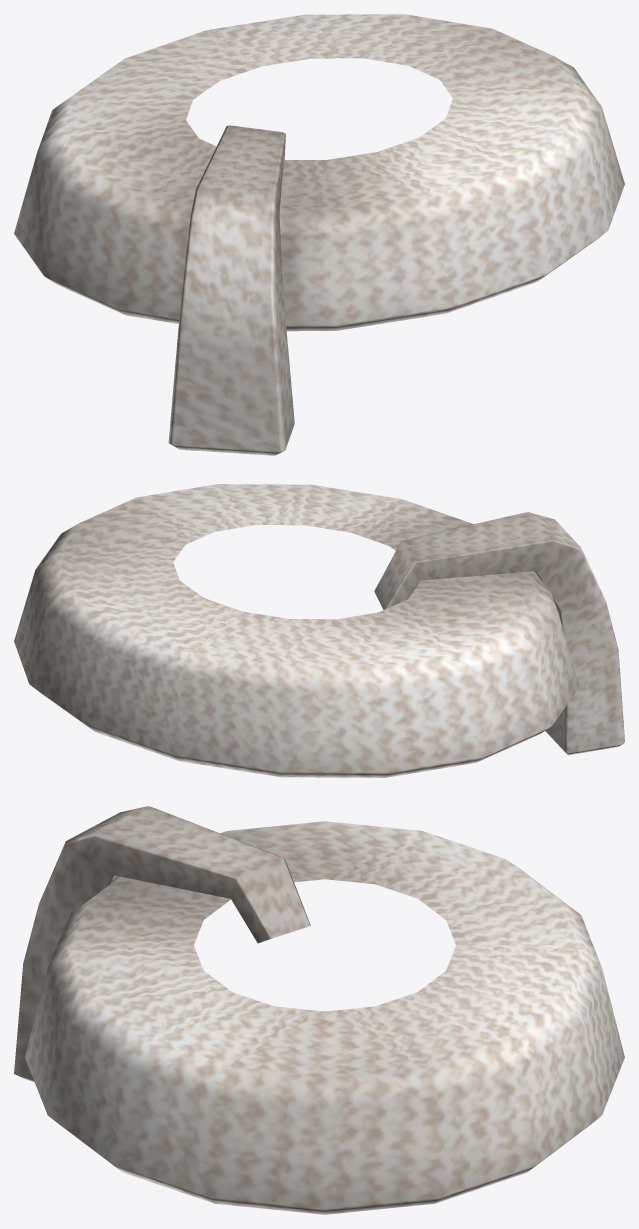
File: M_ScarfA_2.glb
3 renders of one model, top to bottom at view 1: azimuth 30°, elevation 25°; view 2: azimuth 150°, elevation 25°; view 3: azimuth 270°, elevation 25°, orthographic. The views are drawn at different scales.
Visible parts, largest first — view 1: SM_ScarfA; view 2: SM_ScarfA; view 3: SM_ScarfA.
Boxes of the visible parts, <box> form: SM_ScarfA: <box>14,14,624,455</box>; SM_ScarfA: <box>14,484,624,777</box>; SM_ScarfA: <box>14,806,624,1214</box>.
Bounding box in the file's own units: 0.4944 × 0.199 × 0.4219.
Materials: 1 (1 with a texture image).
